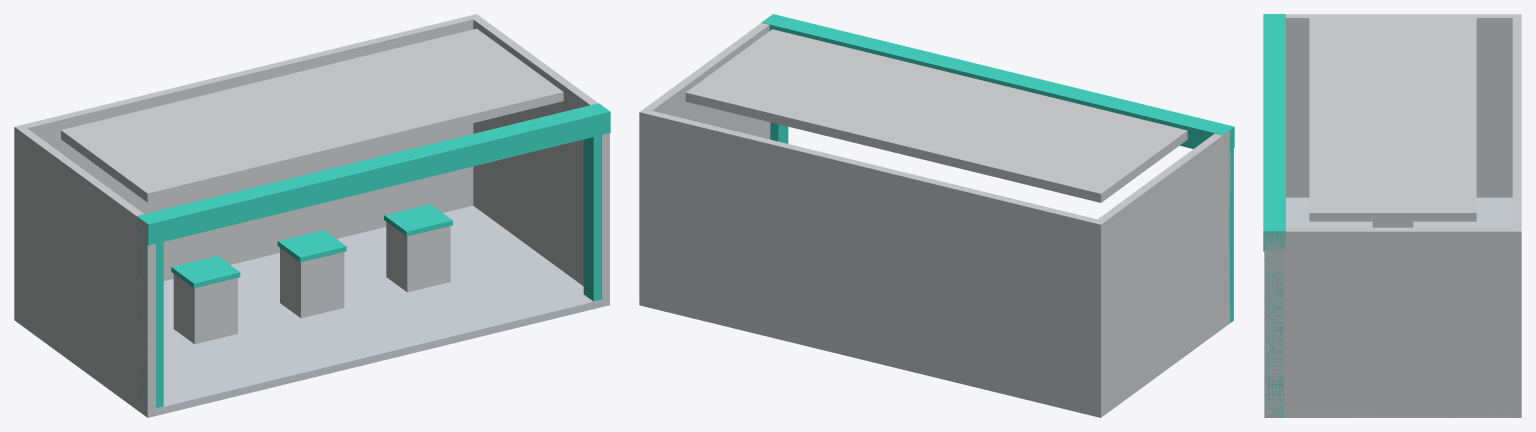
The picture shows the model from 3 angles, left to right: view 1: azimuth 30°, elevation 25°; view 2: azimuth 150°, elevation 25°; view 3: azimuth 270°, elevation 25°; orthographic projection. The views are drawn at different scales.
Parts seen in each view (by area): view 1: Exhibition Booth Concept; view 2: Exhibition Booth Concept; view 3: Exhibition Booth Concept.
Part boxes in pixels (<box>): Exhibition Booth Concept: <box>14,14,610,417</box>; Exhibition Booth Concept: <box>639,14,1234,417</box>; Exhibition Booth Concept: <box>1263,14,1521,417</box>.
Size of the model in its own units: 8 by 3.34 by 4.02.
